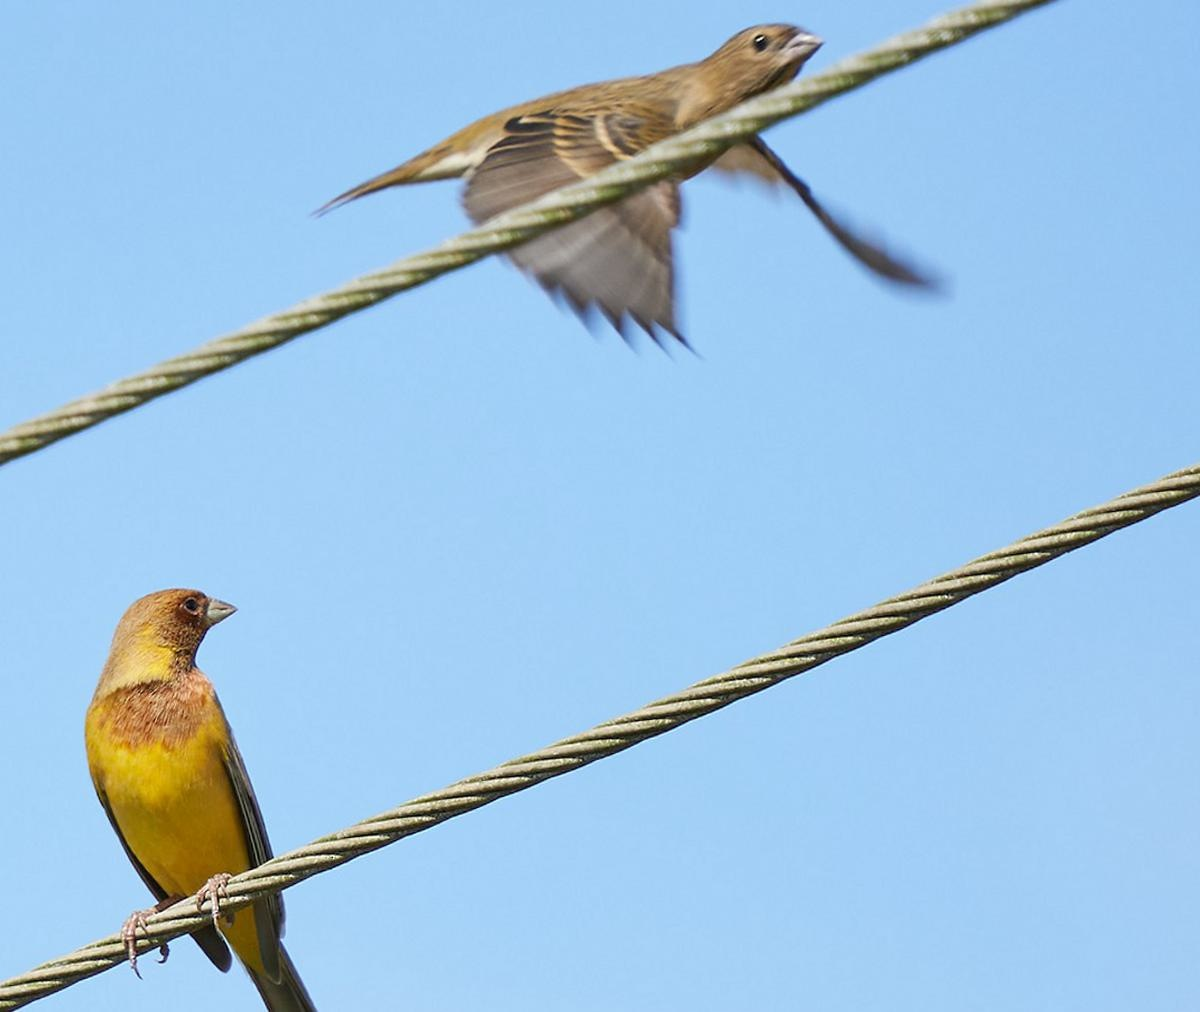rosefinch: (89, 532, 253, 1012)
